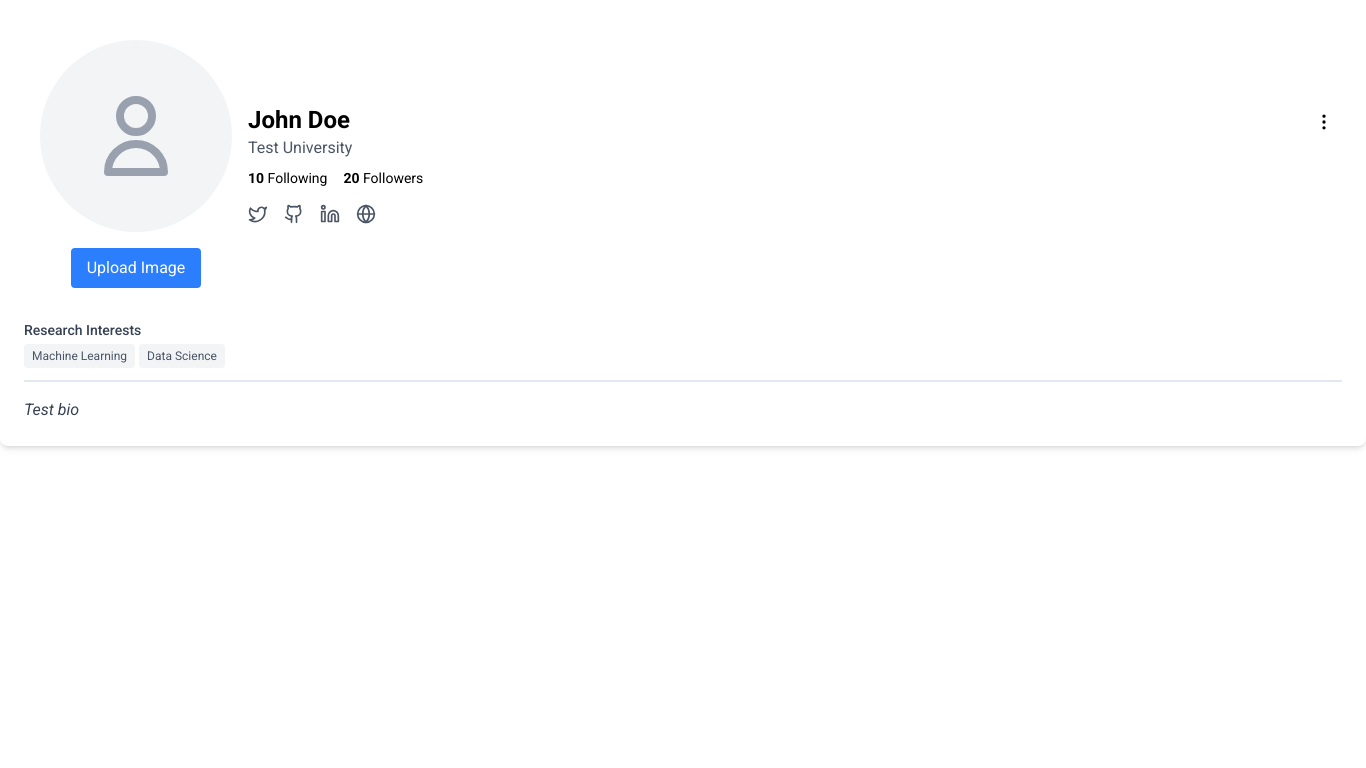
it: ProfileHeader Component › Profile Editing › cancels edit mode
This screenshot has width=1366, height=768.
// Open edit mode
Click the button with test id "hamburger-menu-button".
click(1324, 122)  # box [1306,104,1342,140]
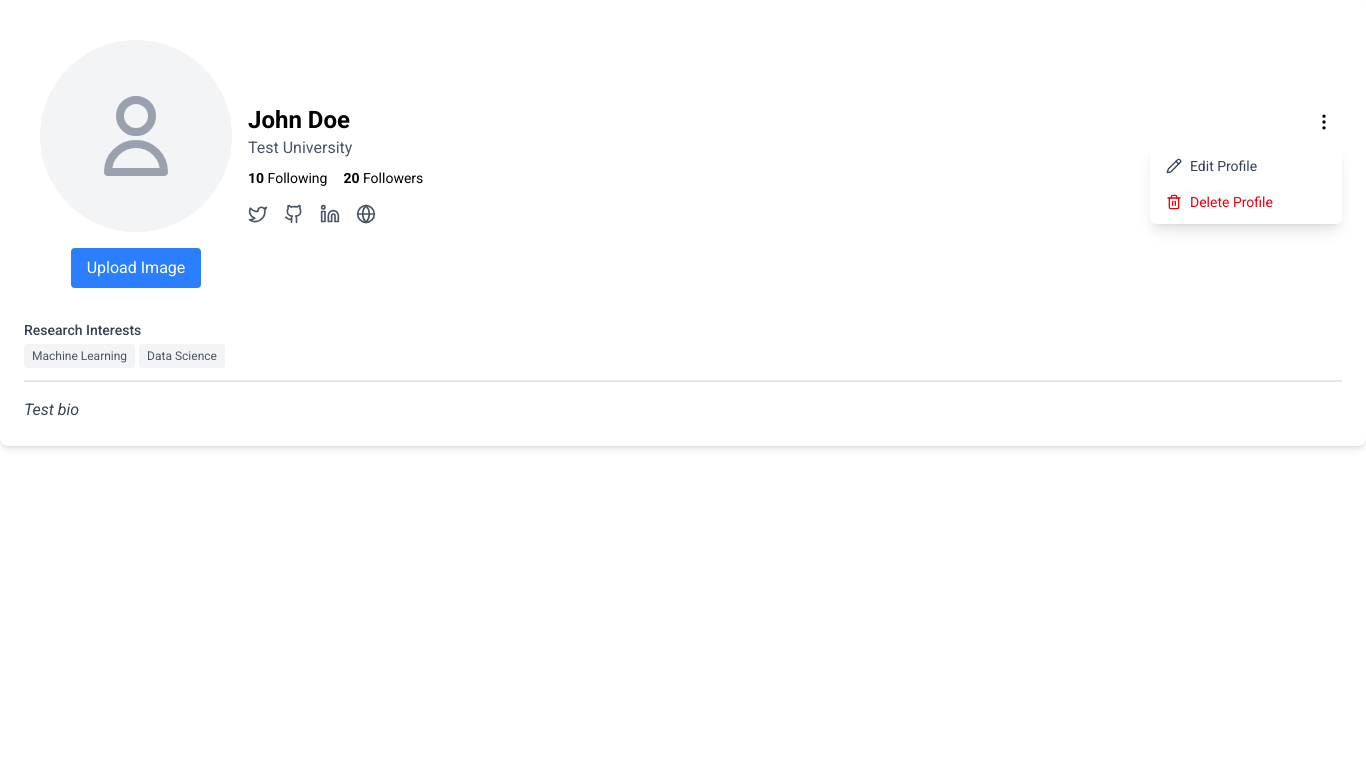
Click the button "Edit Profile".
click(1246, 166)  # box [1150,148,1342,184]
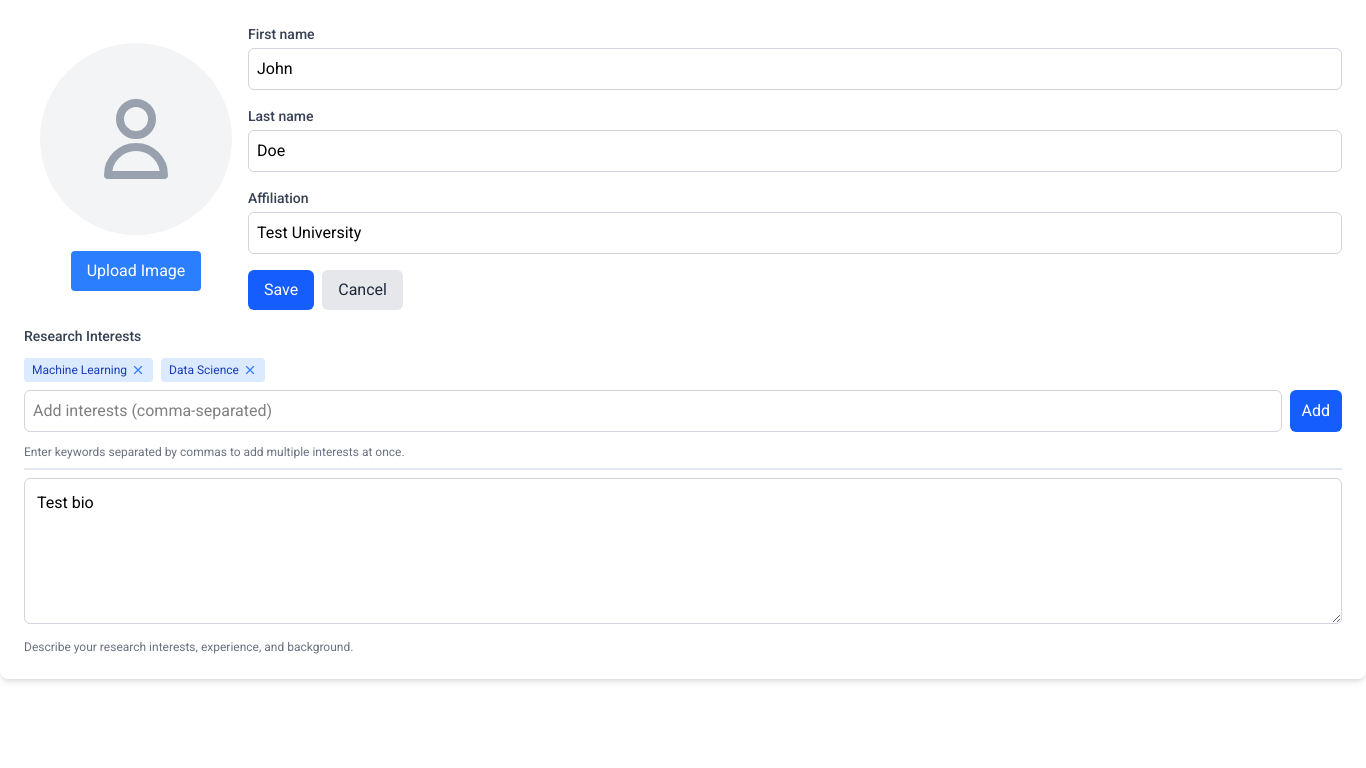
Result: the field labelled "First name" is shown at [248,48,1342,90]
Result: the field labelled "Last name" is shown at [248,130,1342,172]
// Cancel editing
Click the button "Cancel".
click(363, 290)  # box [322,270,403,310]
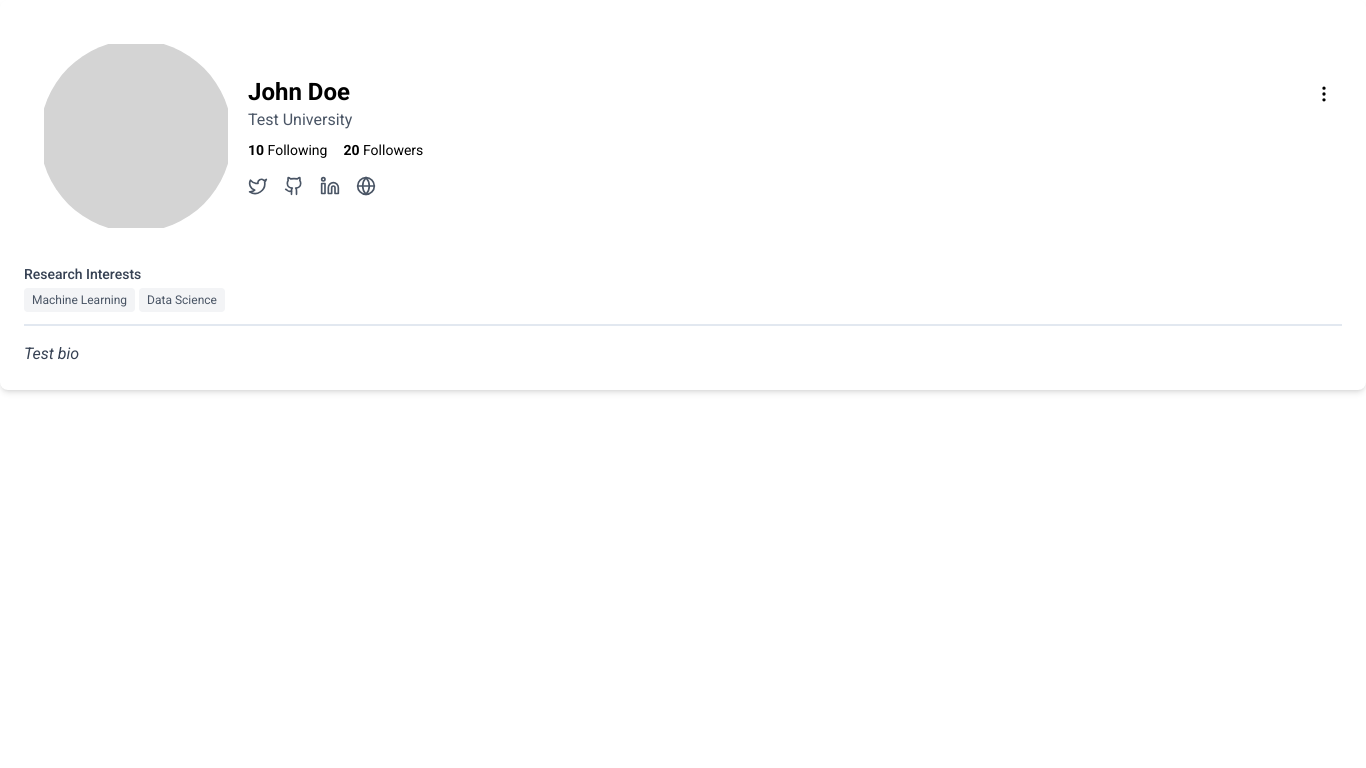
Result: the heading "John Doe" is shown at [248,78,350,106]
Result: the label labelled "First name" is gone
Result: the label labelled "Last name" is gone
